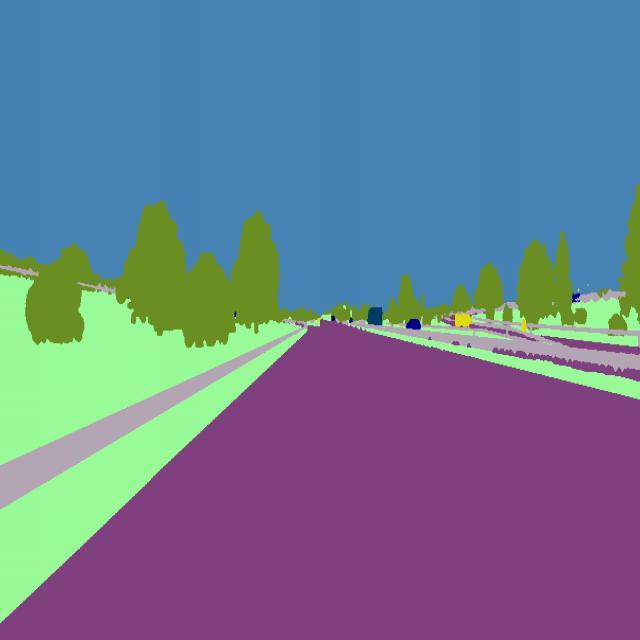safe: (365, 301, 385, 338), (402, 312, 424, 336)
